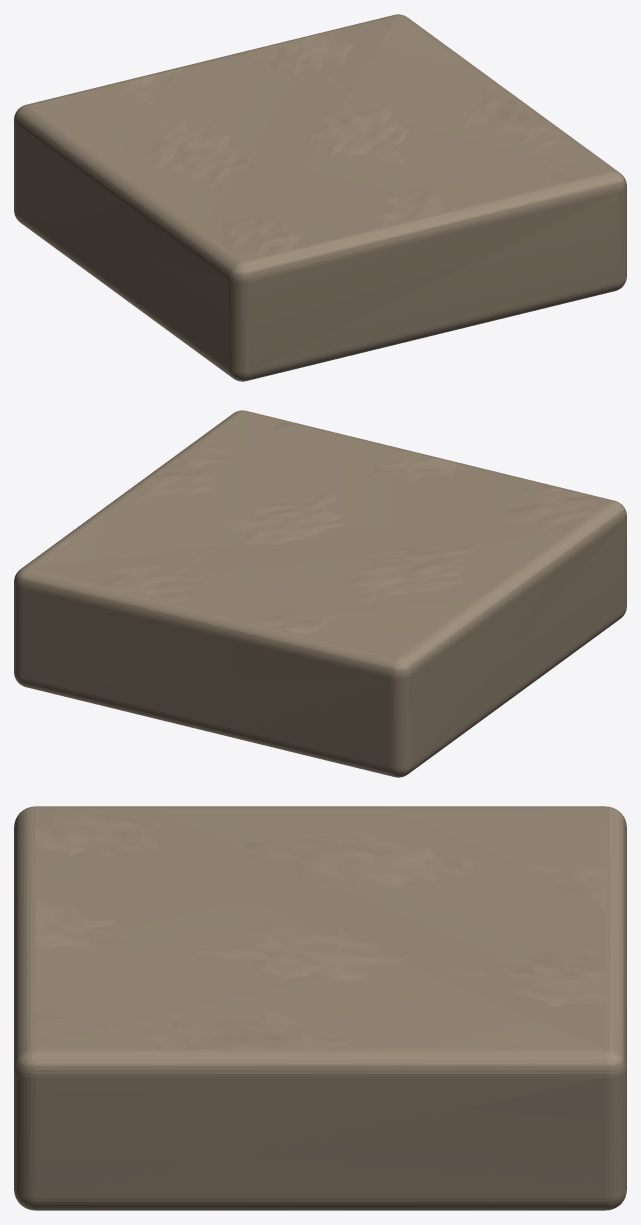
File: stone-beige.glb
3 renders of one model, top to bottom at view 1: azimuth 30°, elevation 25°; view 2: azimuth 150°, elevation 25°; view 3: azimuth 270°, elevation 25°, orthographic. The views are drawn at different scales.
Parts seen in each view (by area): view 1: Single_stone_tile_mesh; view 2: Single_stone_tile_mesh; view 3: Single_stone_tile_mesh.
Boxes of the visible parts, x1,y1,x2,y2 form: Single_stone_tile_mesh: (14, 14, 626, 381); Single_stone_tile_mesh: (14, 410, 626, 777); Single_stone_tile_mesh: (14, 806, 626, 1210).
Bounding box in the file's own units: 0.978 × 0.2846 × 0.978.
